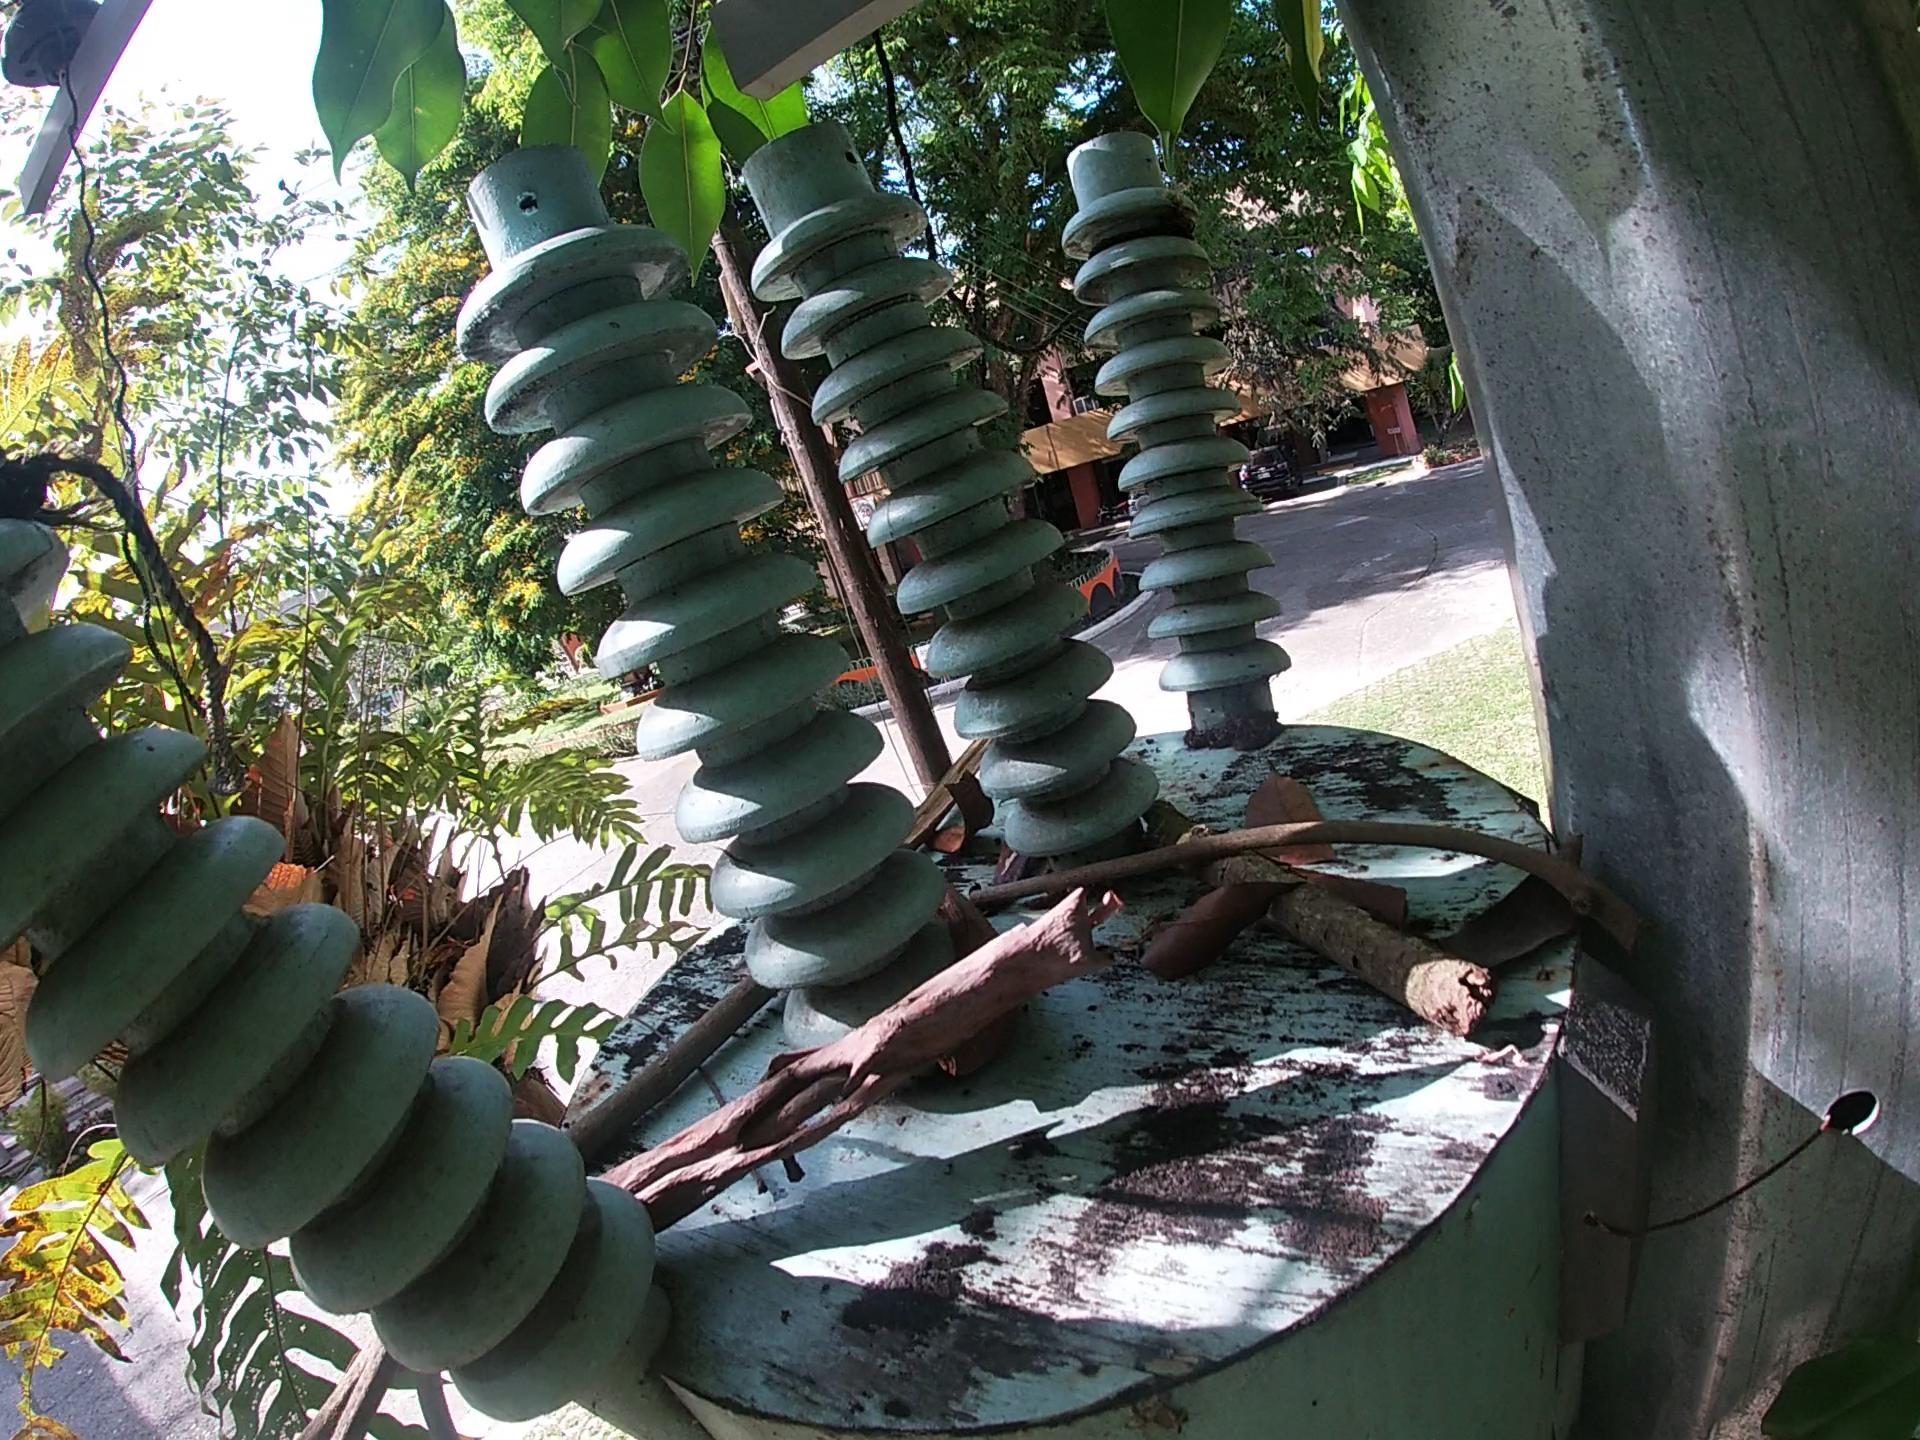leaf: (1438, 836, 1606, 982), (1110, 883, 1262, 979), (1235, 765, 1356, 864), (1350, 877, 1432, 929), (1336, 876, 1429, 915)
mahogany fruit: (922, 1010, 1042, 1092), (934, 765, 1002, 876), (928, 886, 980, 961)
tree branch: (605, 894, 1150, 1218), (940, 808, 1683, 942), (1160, 803, 1506, 1048), (561, 973, 759, 1153), (280, 1345, 410, 1440), (909, 746, 989, 838), (700, 1038, 733, 1109), (756, 1171, 777, 1196)
